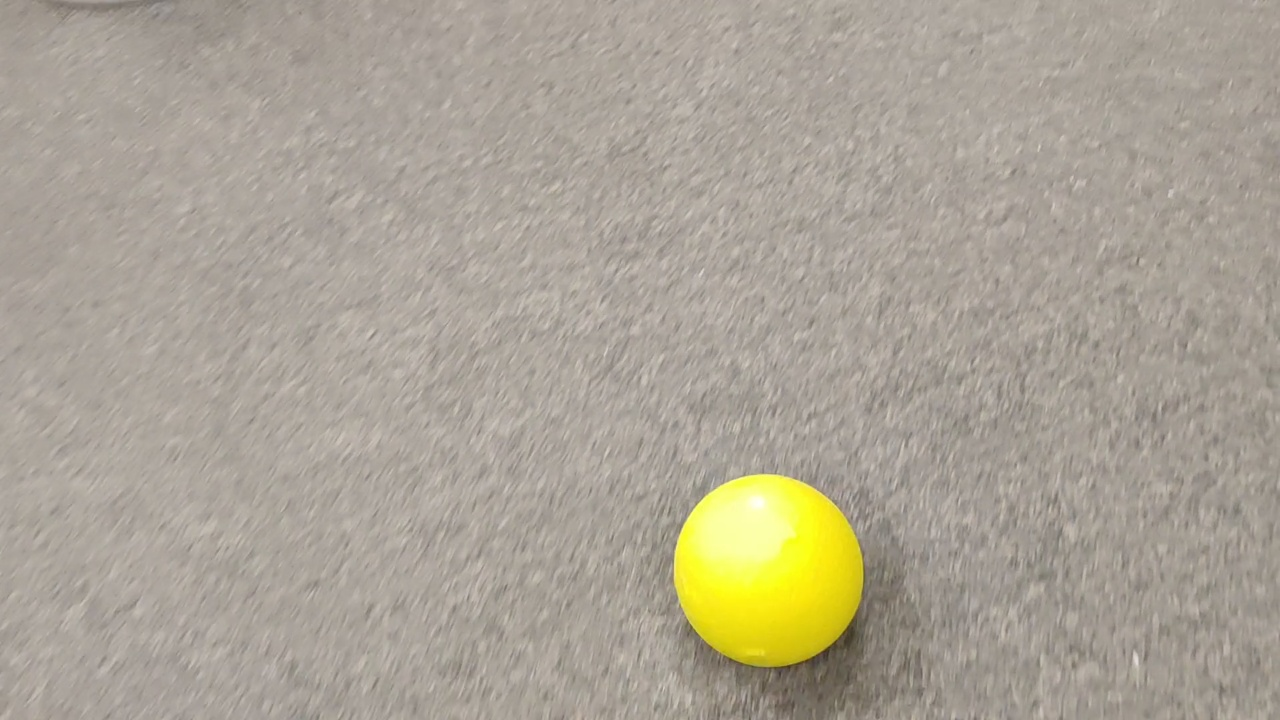Ball: (674, 474, 865, 668)
